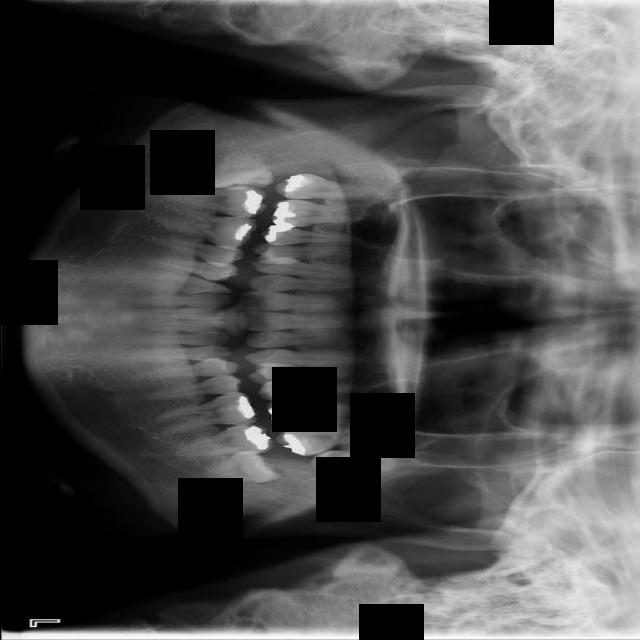52: (211, 383, 262, 436), (224, 413, 276, 464), (264, 391, 312, 436), (207, 210, 258, 252), (274, 427, 333, 457), (269, 194, 312, 232), (216, 186, 266, 218), (274, 174, 323, 199), (261, 224, 301, 248)
73: (60, 613, 74, 619)
BioHorizons Implant: (274, 422, 400, 458)
BioLife Implant: (309, 447, 430, 477)
Biomet 3i Implant: (200, 448, 282, 488)
Blue Sky Bio Implant: (169, 422, 276, 460)
Caries: (274, 173, 384, 201)
Implant: (159, 185, 267, 218)
Keystone Dental Implant: (205, 148, 273, 193)
